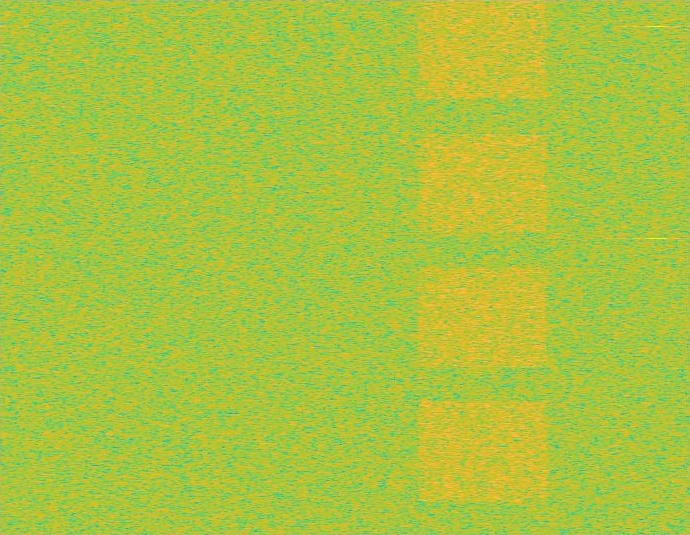5G: (414, 0, 552, 534)
Radar: (650, 0, 664, 534)
